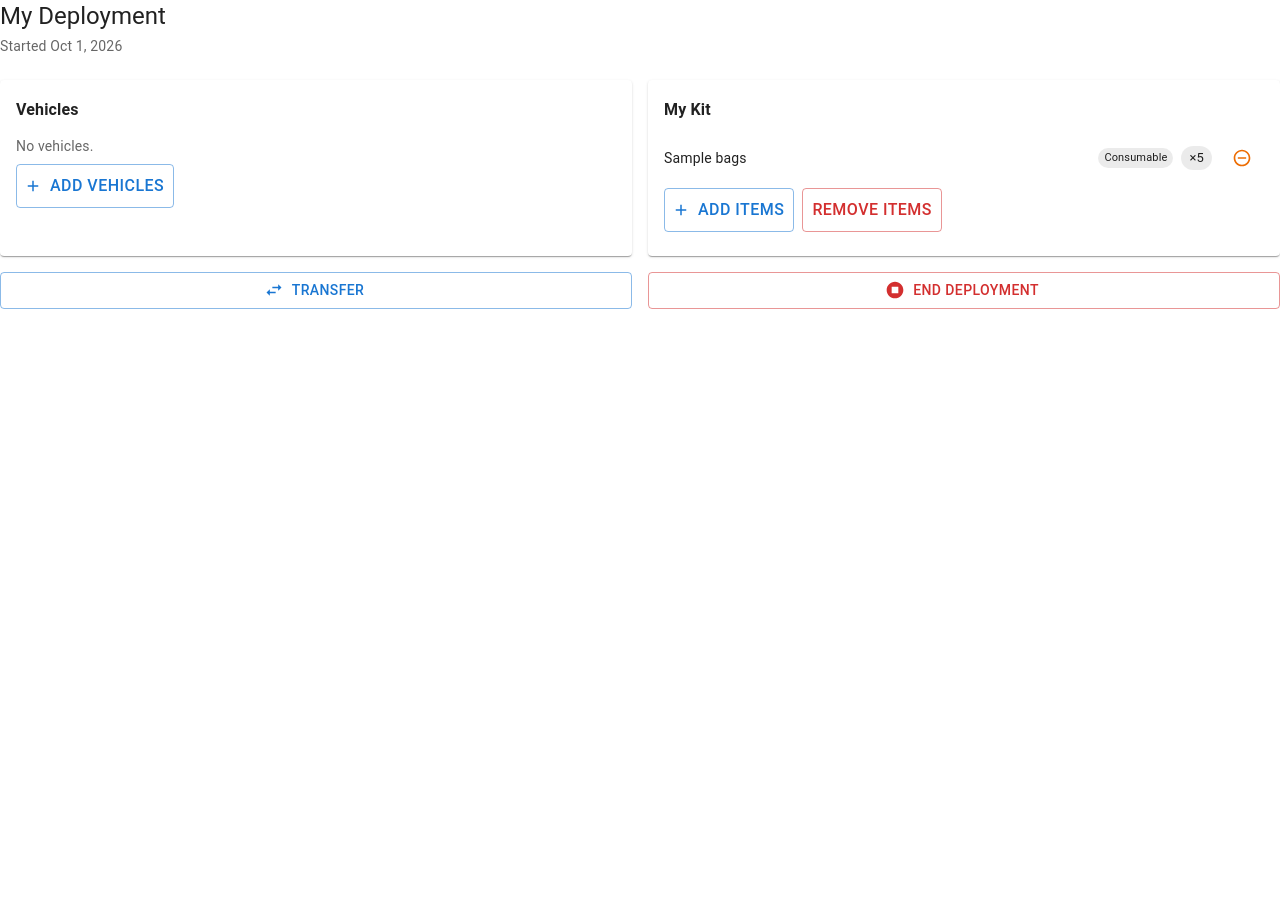
Test: Hotfix 2026-10-25 · screens re-read on reconnect instead of reloading › an open End Deployment dialog takes in a line the re-read added, without crashing
Click the button "End Deployment" at coordinates (964, 290), box [648,272,1279,308]
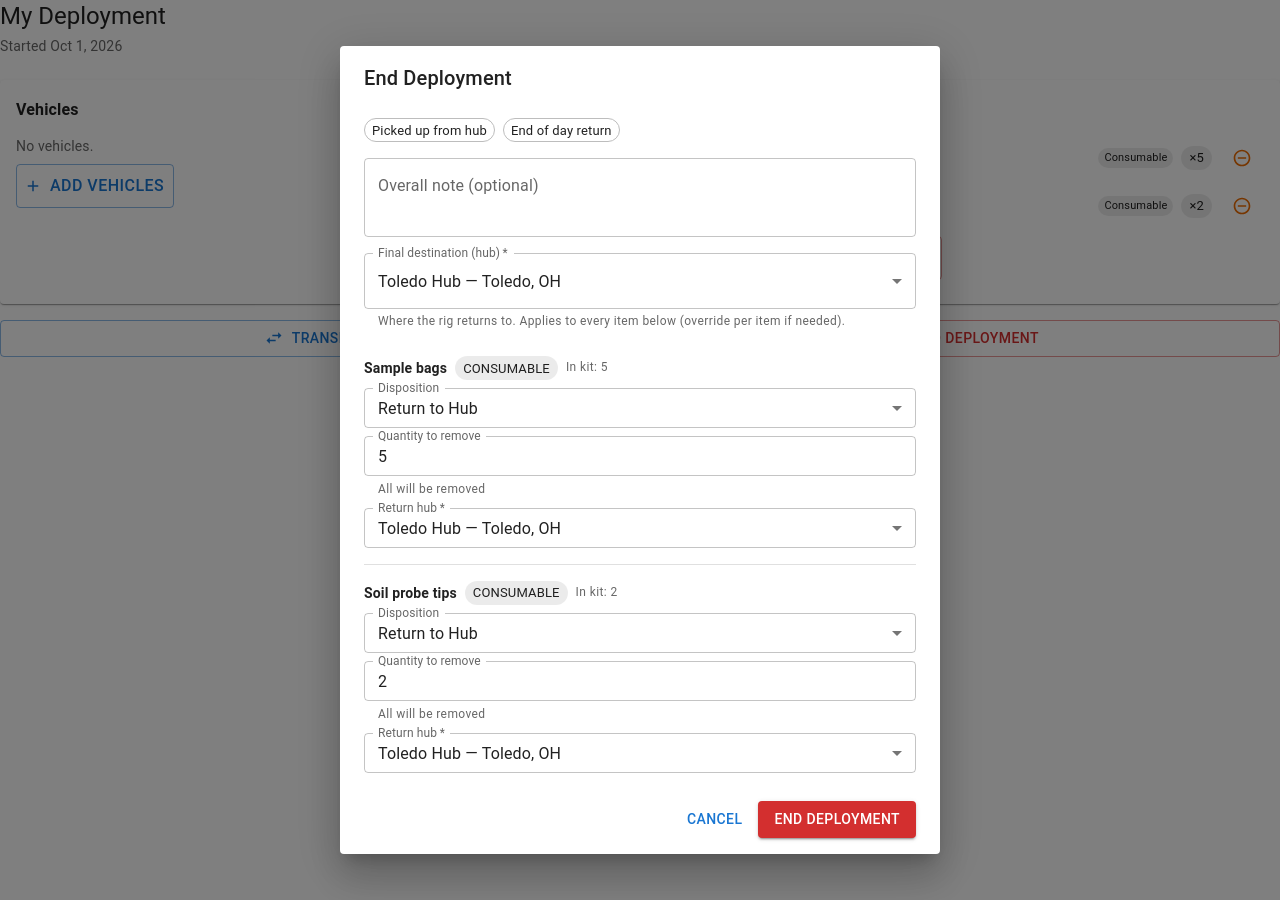
Result: the text "Soil probe tips" is shown at [364,583,457,603]
Result: the text "Sample bags" is shown at [364,358,447,378]
